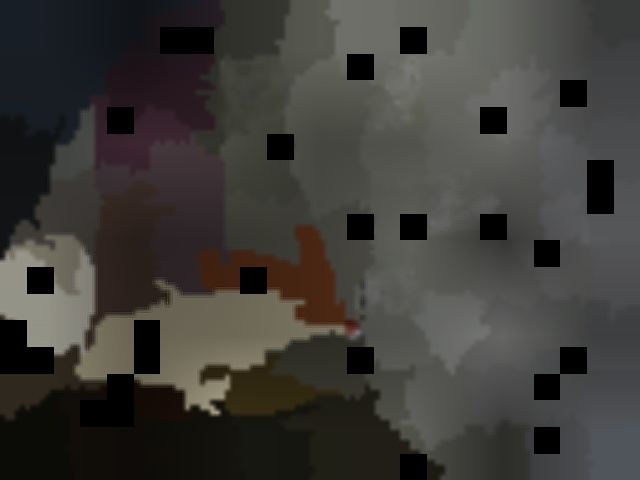three: (7, 300, 50, 331)
